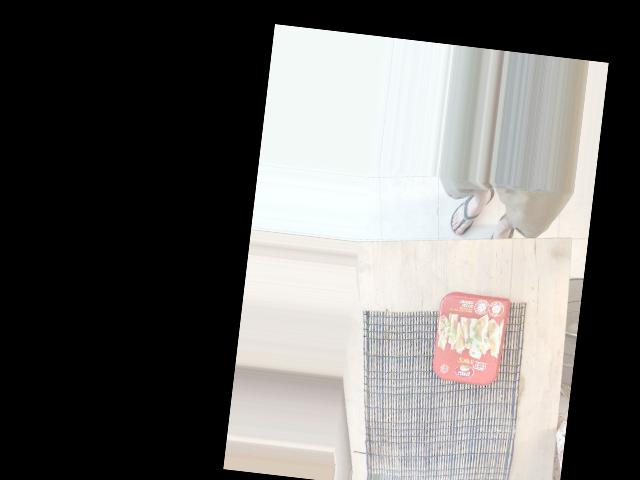cheese: (338, 301, 483, 402)
